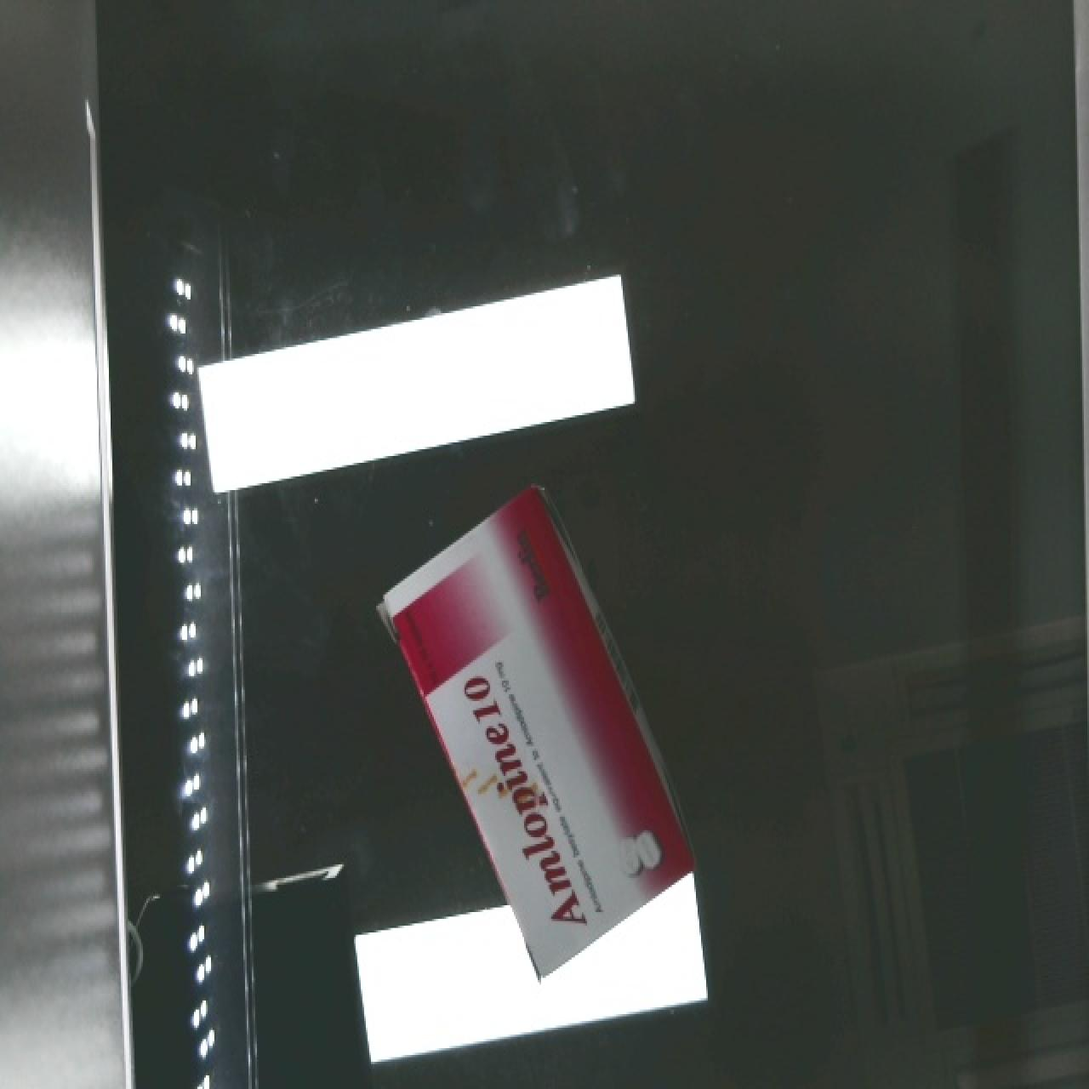medicine_label_obb: (427, 643, 609, 952)
